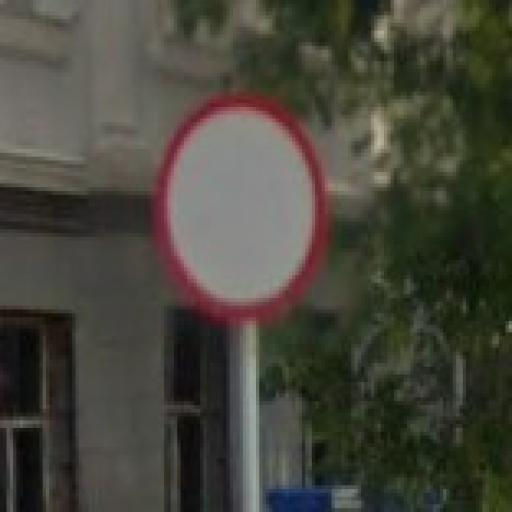traffic_sign: (155, 96, 329, 322)
